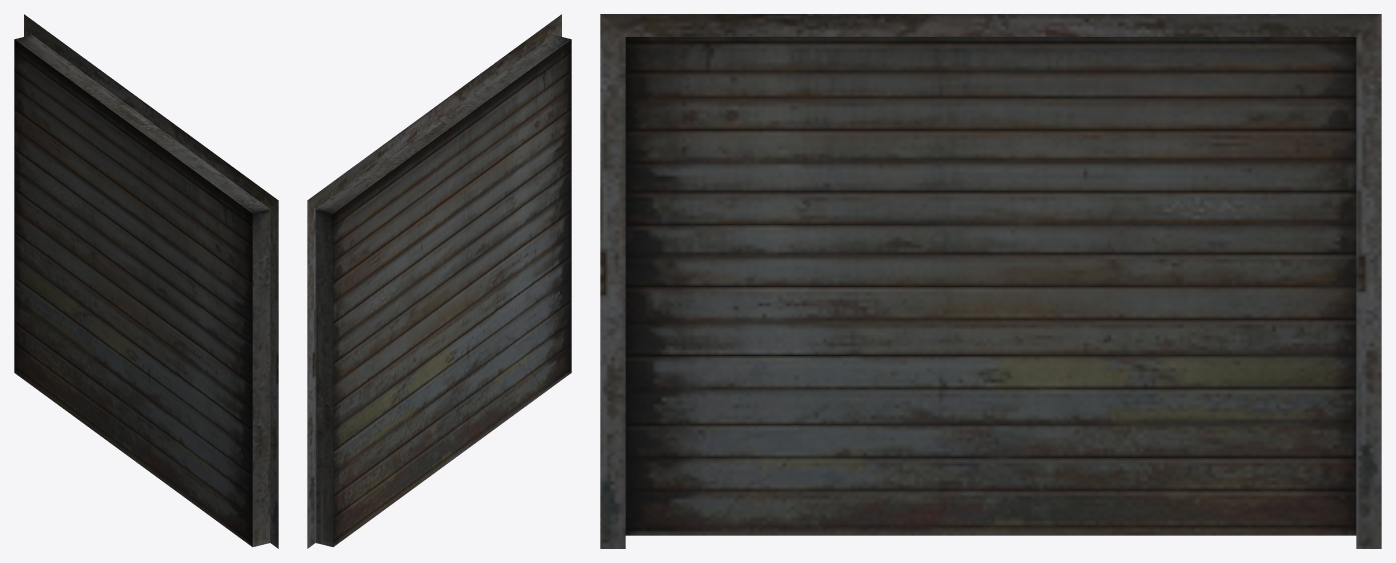
File: Shutter_01.FBX
The picture shows the model from 3 angles, left to right: view 1: azimuth 30°, elevation 25°; view 2: azimuth 150°, elevation 25°; view 3: azimuth 270°, elevation 25°; orthographic projection. The views are drawn at different scales.
Visible parts, largest first — view 1: Shutter_01; view 2: Shutter_01; view 3: Shutter_01.
Part boxes in pixels (bbox=[...]): Shutter_01: bbox=[14, 14, 278, 548]; Shutter_01: bbox=[307, 14, 571, 548]; Shutter_01: bbox=[600, 14, 1381, 548].
Size of the model in its own units: 18.62 by 351 by 464.
